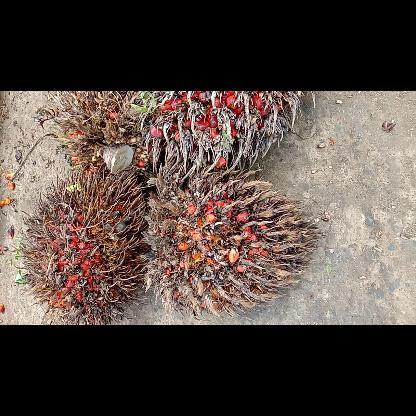Terlalu masak: (140, 172, 326, 324), (15, 170, 151, 324), (140, 90, 316, 184), (44, 91, 162, 181)
